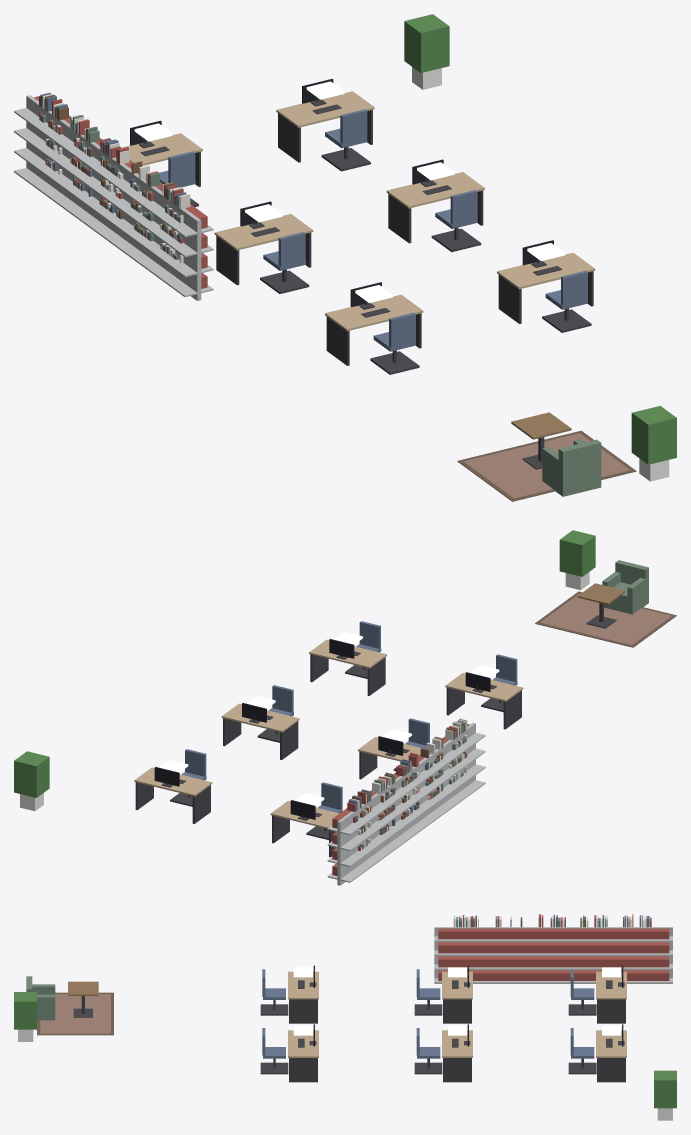
Rendered from fine-s2.glb.
3 renders of one model, top to bottom at view 1: azimuth 30°, elevation 25°; view 2: azimuth 150°, elevation 25°; view 3: azimuth 270°, elevation 25°, orthographic. The views are drawn at different scales.
Parts seen in each view (by area): view 1: soft-s2, shelving.009, shelving.005, shelving.006, office-desk-real.009, office-desk-real.008, office-desk-real.011, office-desk-real.010, office-desk-real.007, plant-medium.002, plant-medium.003, sofa.001 (+10 smaller); view 2: soft-s2, shelving.005, office-desk-real.010, office-desk-real.007, office-desk-real.011, office-desk-real.009, shelving.009, shelving.008, shelving.006, plant-medium.002, shelving.007, plant-medium.003 (+10 smaller); view 3: soft-s2, shelving.005, shelving.007, shelving.008, shelving.006, shelving.009, office-desk-real.007, office-desk-real.009, office-desk-real.011, office-desk-real.006, office-desk-real.008, office-desk-real.010 (+10 smaller).
Part boxes in pixels (box(x1,y1,x2,y2)): soft-s2: box(39, 92, 636, 501); shelving.009: box(135, 185, 213, 300); shelving.005: box(14, 95, 75, 208); shelving.006: box(44, 118, 106, 230); office-desk-real.009: box(386, 159, 484, 243); office-desk-real.008: box(214, 201, 313, 285); office-desk-real.011: box(497, 240, 595, 323); office-desk-real.010: box(325, 282, 423, 365); office-desk-real.007: box(276, 78, 374, 162); plant-medium.002: box(631, 406, 676, 481); plant-medium.003: box(404, 14, 449, 89); sofa.001: box(542, 439, 601, 496); soft-s2: box(347, 591, 676, 850); shelving.005: box(327, 793, 389, 885); office-desk-real.010: box(445, 672, 523, 729); office-desk-real.007: box(134, 767, 212, 823); office-desk-real.011: box(309, 639, 386, 695); office-desk-real.009: box(221, 703, 299, 759); shelving.009: box(435, 722, 485, 811); shelving.008: box(412, 740, 461, 829); shelving.006: box(363, 776, 413, 864); plant-medium.002: box(559, 530, 595, 590); shelving.007: box(388, 758, 437, 847); plant-medium.003: box(14, 751, 49, 811); soft-s2: box(37, 914, 651, 1035); shelving.005: box(603, 927, 672, 983); shelving.007: box(519, 927, 588, 983); shelving.008: box(476, 927, 545, 983); shelving.006: box(561, 927, 630, 983); shelving.009: box(434, 927, 503, 983); office-desk-real.007: box(596, 1024, 626, 1082); office-desk-real.009: box(442, 1024, 472, 1082); office-desk-real.011: box(288, 1024, 318, 1082); office-desk-real.006: box(596, 965, 626, 1023); office-desk-real.008: box(442, 965, 472, 1023); office-desk-real.010: box(288, 965, 318, 1023).
Bounding box in the file's own units: 8.83 × 1.93 × 17.22.
